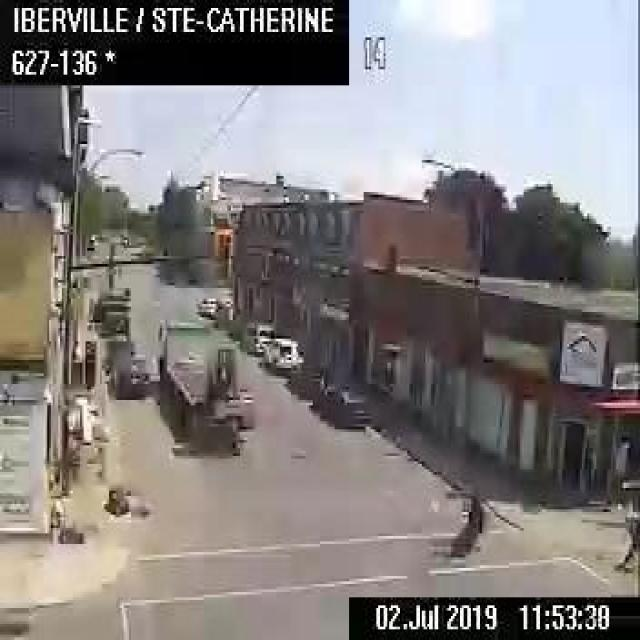pedestrian: (621, 508, 638, 570), (464, 493, 482, 550)
vehicle: (157, 316, 255, 451), (312, 374, 371, 429), (108, 338, 149, 396), (96, 288, 132, 335), (263, 334, 303, 375), (288, 361, 324, 396), (243, 319, 275, 352), (228, 312, 247, 340), (213, 301, 234, 326), (198, 295, 218, 315), (85, 232, 94, 248)
